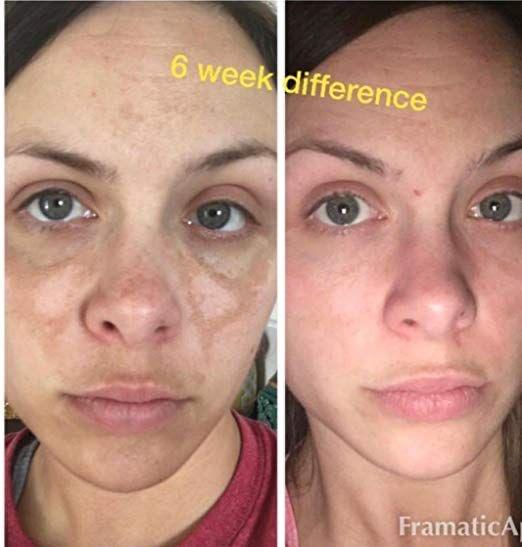Dry-Skin: (110, 59, 159, 126), (30, 264, 83, 307), (206, 284, 250, 323), (110, 444, 161, 477), (196, 61, 227, 107), (113, 266, 154, 300), (100, 369, 164, 389), (34, 326, 70, 354), (50, 406, 73, 449), (179, 259, 203, 294), (53, 240, 84, 266), (184, 419, 207, 449)
